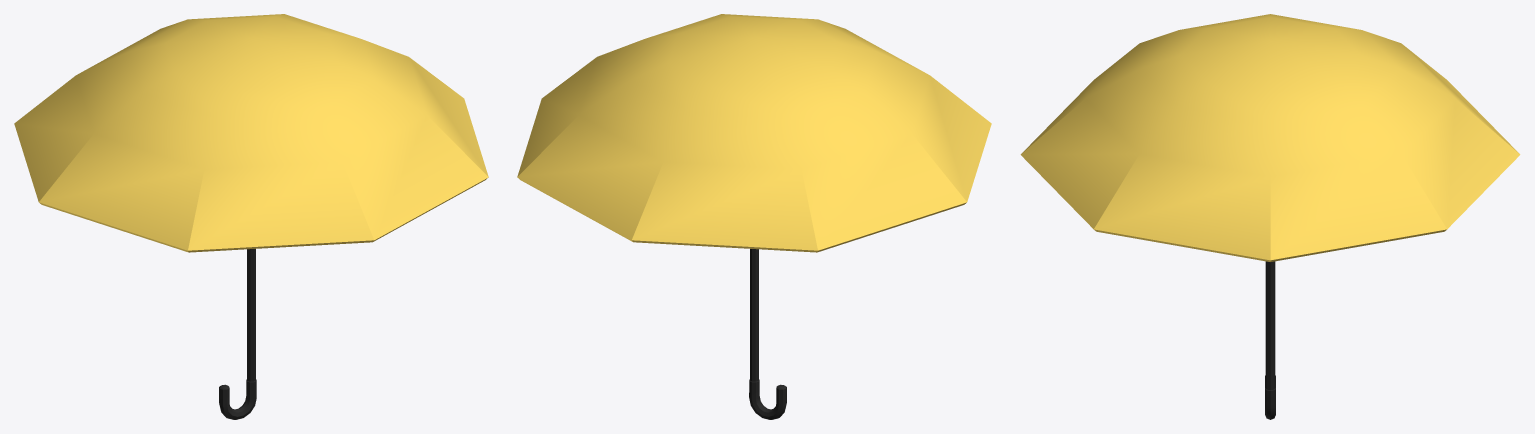
Rendered from umbrella.fbx.
3 renders of one model, left to right at view 1: azimuth 30°, elevation 25°; view 2: azimuth 150°, elevation 25°; view 3: azimuth 270°, elevation 25°, orthographic.
Parts seen in each view (by area): view 1: pCylinder2; view 2: pCylinder2; view 3: pCylinder2.
Boxes of the visible parts, <box> form: pCylinder2: <box>14,14,488,419</box>; pCylinder2: <box>517,14,991,419</box>; pCylinder2: <box>1020,14,1520,419</box>.
Bounding box in the file's own units: 281 × 238 × 281.
